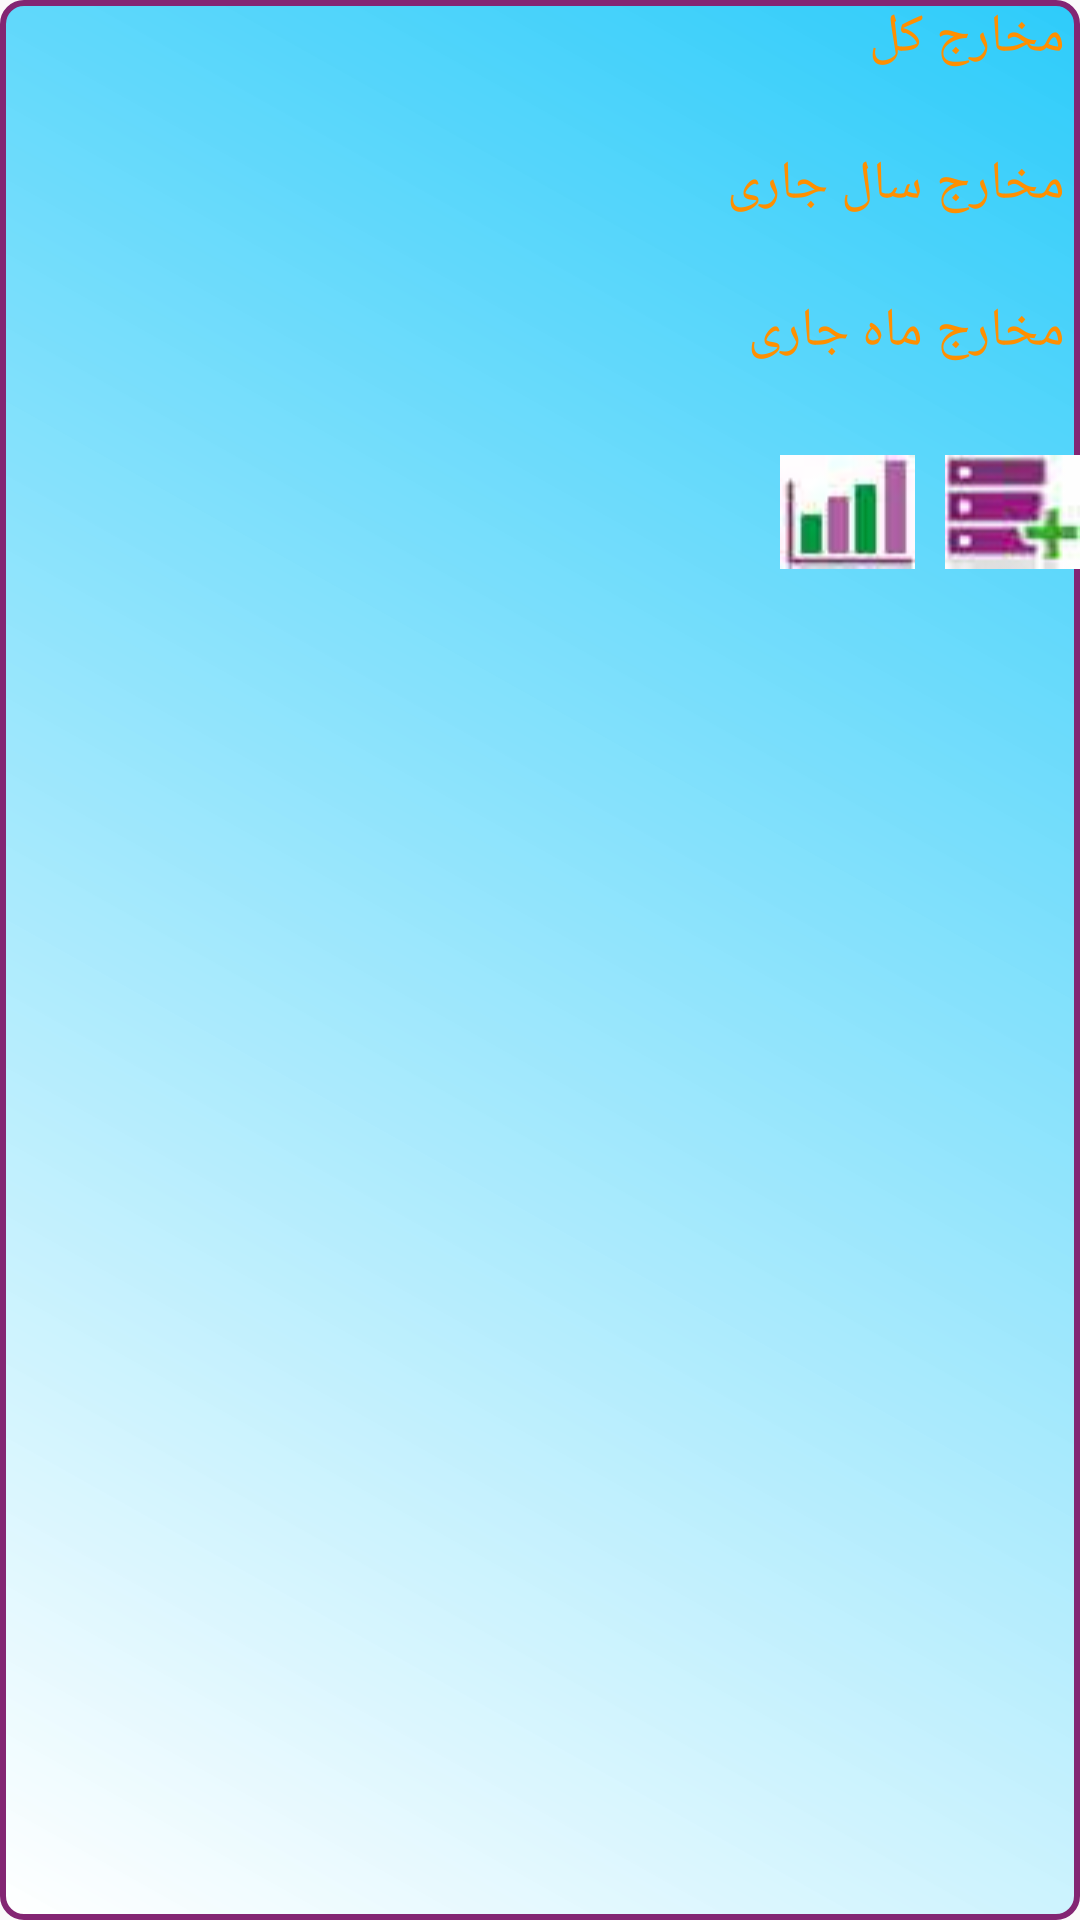

Screen size 1080 × 1920. Icon name, then its box in pixels as [left=x1, top=y1, right=x2, bottom=y2]:
defineact: [left=945, top=441, right=1080, bottom=591]
showact: [left=780, top=455, right=915, bottom=569]
